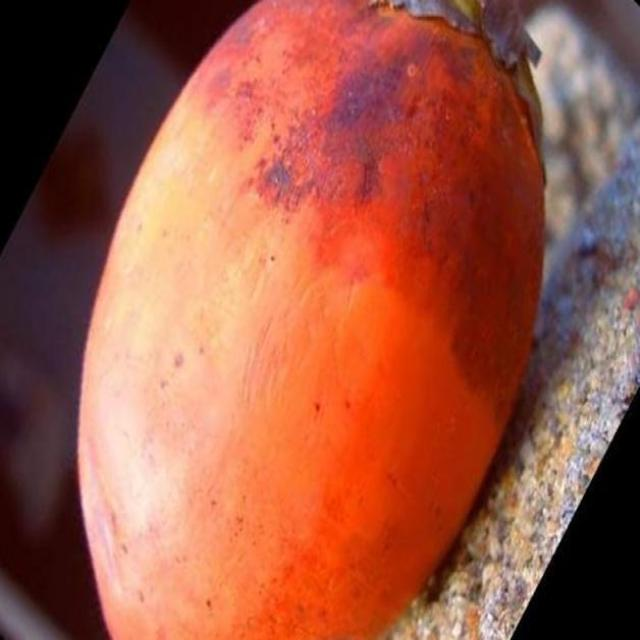good: (74, 0, 547, 639)
